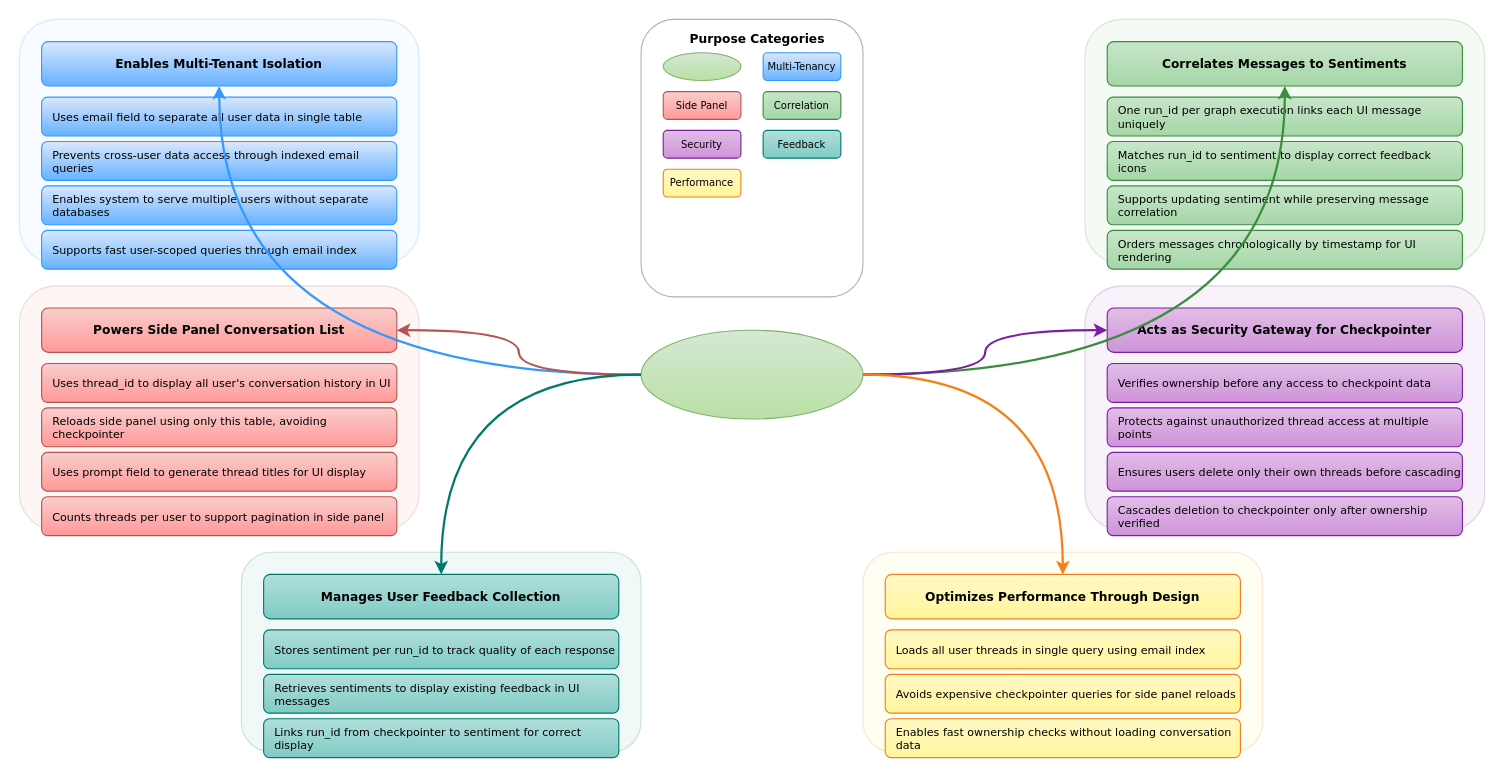
Some shapes in this 1504 by 777 pixel diagram are drawn without their labels. Here are the shapes that lost their labels. From the top down, the centre of each, then its label:
At point 701,66: "Table".
At point 751,374: "users_threads_runs".
